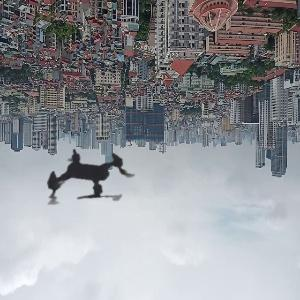drone: (22, 107, 160, 245)
